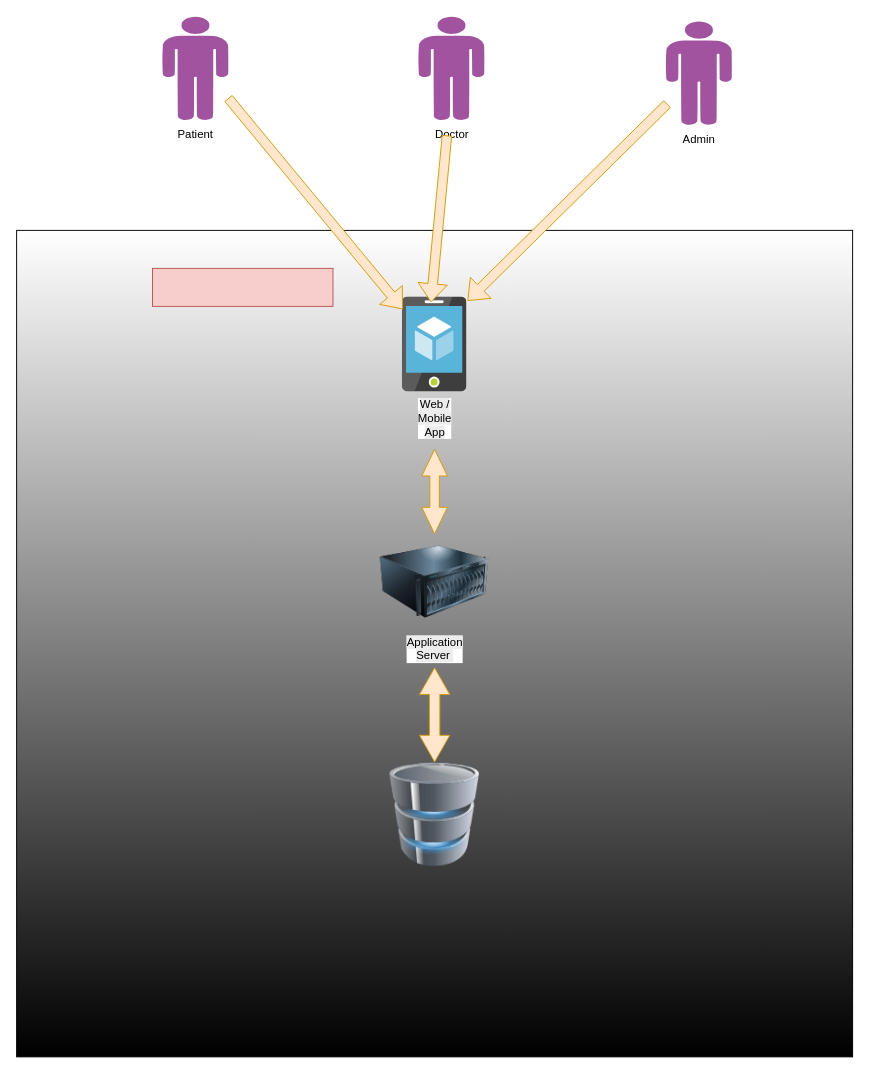
Some shapes in this 869 by 1074 pixel diagram are drawn without their labels. Each missing label, with the box of its shape:
Database: (349, 762, 520, 866)
Smart Health Connect System: (152, 267, 333, 306)
